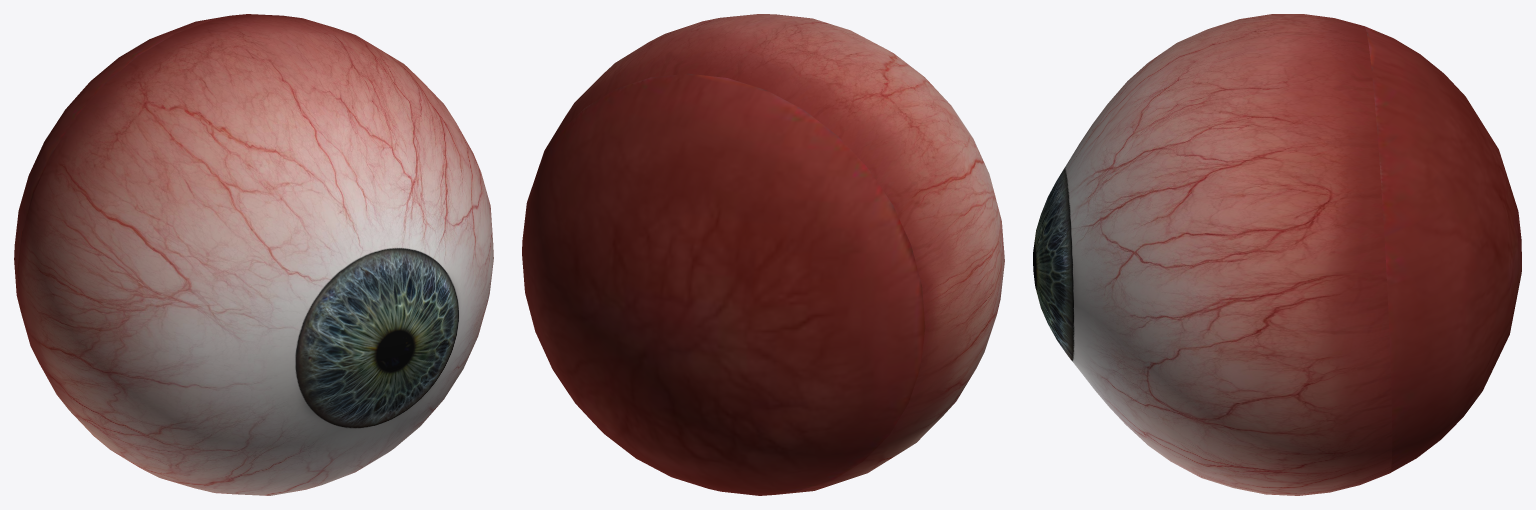
File: MetaHuman_Eyes.glb
3 renders of one model, left to right at view 1: azimuth 30°, elevation 25°; view 2: azimuth 150°, elevation 25°; view 3: azimuth 270°, elevation 25°, orthographic.
Visible parts, largest first — view 1: MetaHuman_Eyes; view 2: MetaHuman_Eyes; view 3: MetaHuman_Eyes.
Part boxes in pixels (x1,y1,x2,y2): MetaHuman_Eyes: (14, 14, 493, 495); MetaHuman_Eyes: (522, 14, 1004, 495); MetaHuman_Eyes: (1033, 14, 1521, 495).
Size of the model in its own units: 0.0258 by 0.0257 by 0.026.
Materials: 1 (1 with a texture image).
